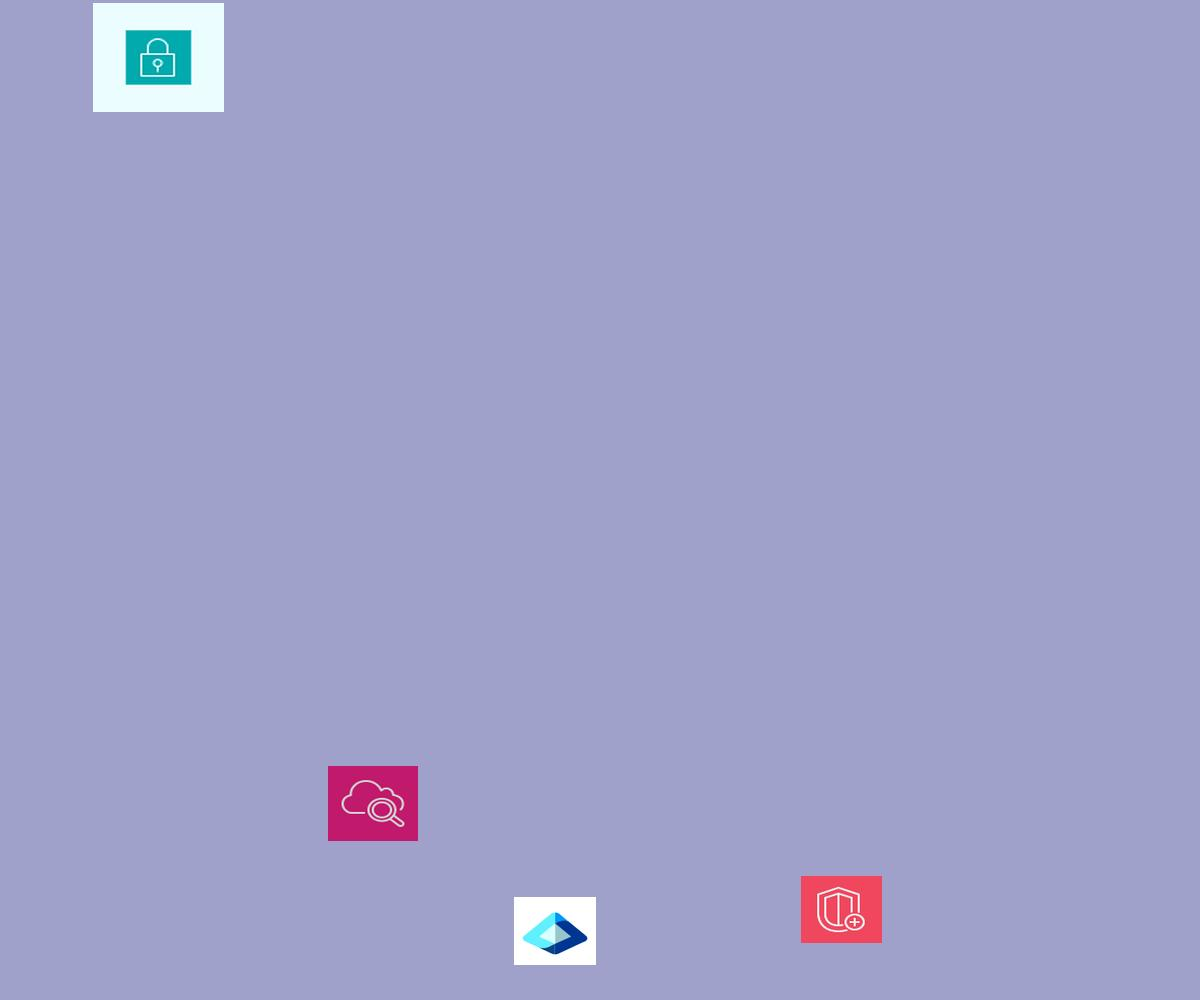AWS-CloudWatch: (328, 766, 418, 841)
AWS-Private-subnet: (93, 3, 224, 112)
AWS-Shield: (801, 876, 882, 943)
Azure_microsoft_entra: (514, 897, 596, 965)
